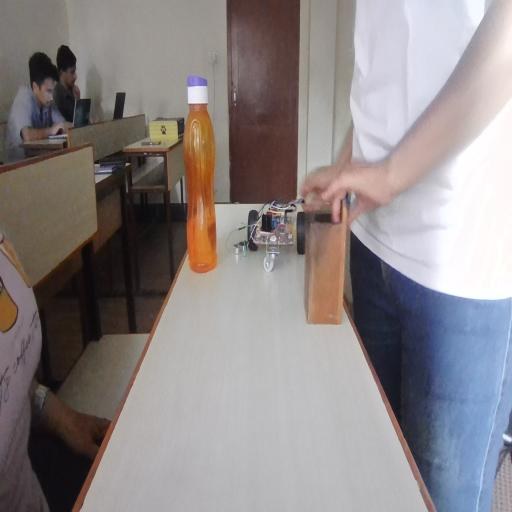Bottle: (178, 73, 230, 279)
car: (260, 194, 292, 264)
